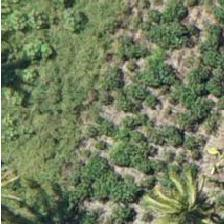coconut_tree: (141, 163, 223, 223)
